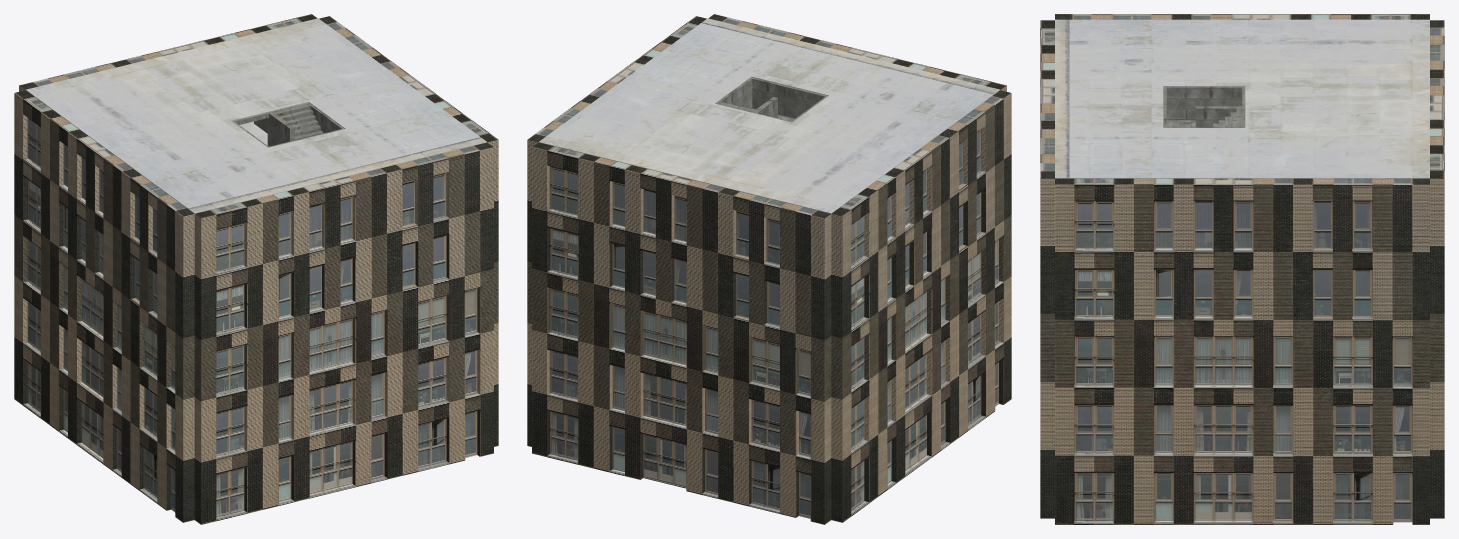
The model's file is BagSS04mid_high.fbx.
The picture shows the model from 3 angles, left to right: view 1: azimuth 30°, elevation 25°; view 2: azimuth 150°, elevation 25°; view 3: azimuth 270°, elevation 25°; orthographic projection. The views are drawn at different scales.
Parts seen in each view (by area): view 1: midMain700, midfloor700, midStairwell700; view 2: midMain700, midfloor700, midStairwell700; view 3: midMain700, midfloor700, midStairwell700.
Part boxes in pixels (x1,y1,x2,y2): midMain700: [14, 14, 498, 524]; midfloor700: [26, 18, 487, 213]; midStairwell700: [232, 102, 344, 147]; midMain700: [527, 14, 1011, 524]; midfloor700: [538, 18, 999, 213]; midStairwell700: [715, 77, 827, 122]; midMain700: [1040, 14, 1444, 524]; midfloor700: [1055, 19, 1429, 178]; midStairwell700: [1163, 86, 1245, 127].
Bounding box in the file's own units: 22.1 × 20.54 × 22.1.
